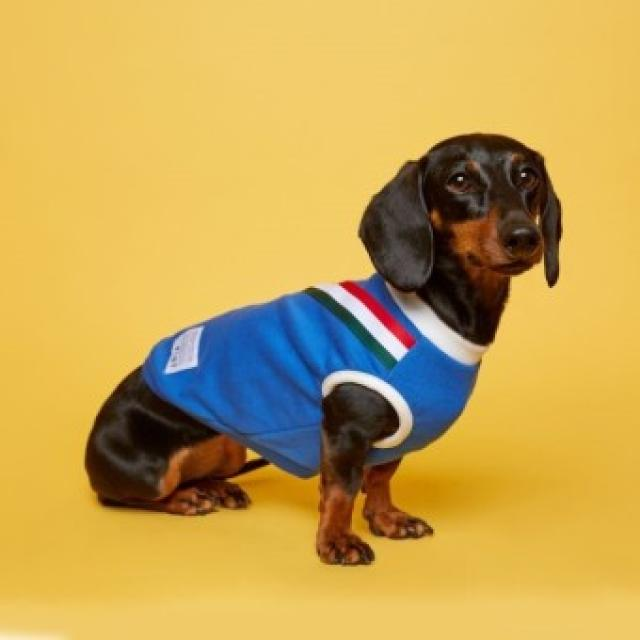cloth: (142, 274, 485, 477)
